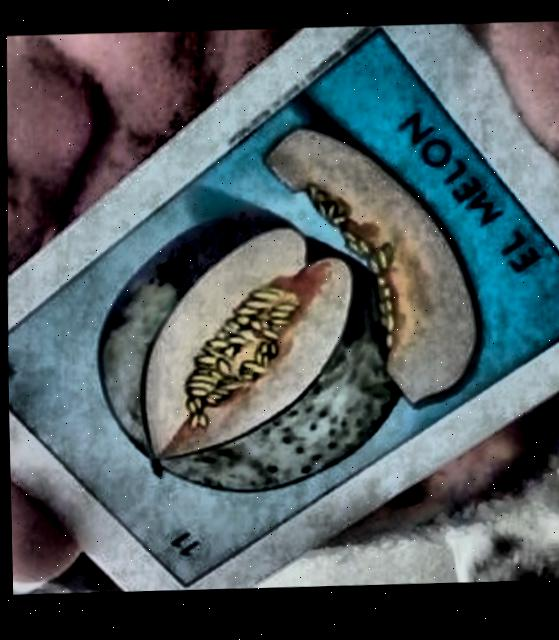El Melon: (6, 34, 559, 588)
